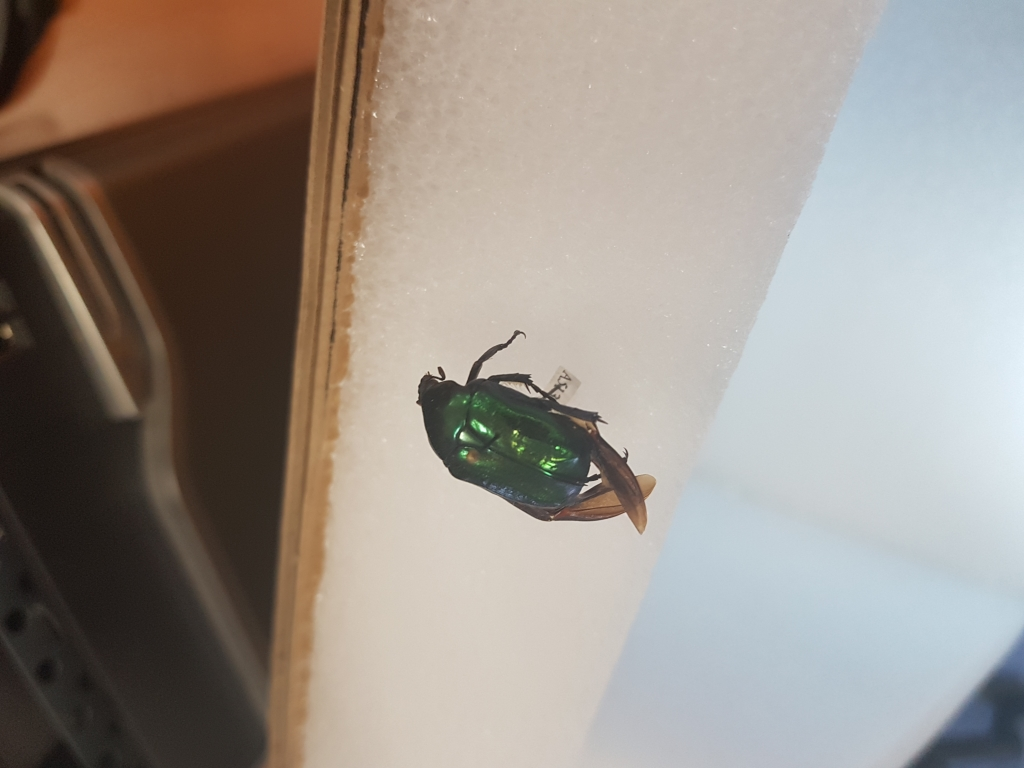Protaetia_angustata_angustata: (408, 321, 663, 548)
